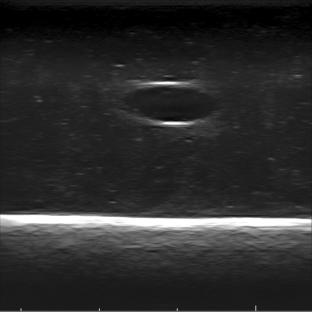vessel: (120, 81, 221, 128)
